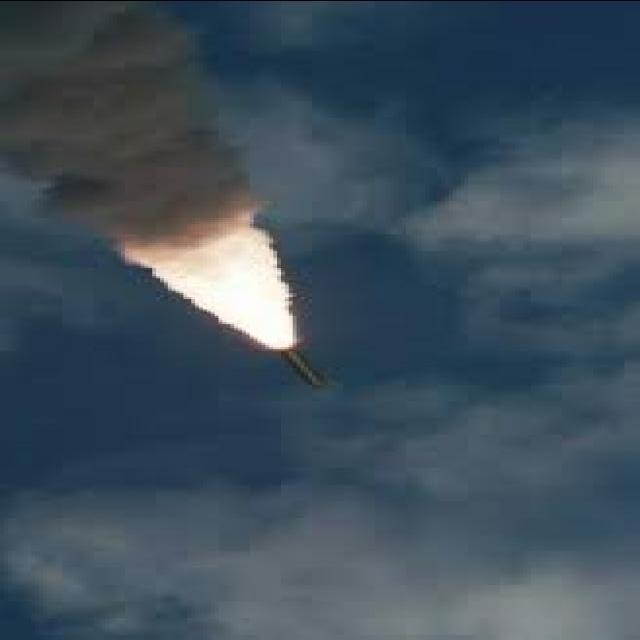Missile: (268, 337, 328, 391)
